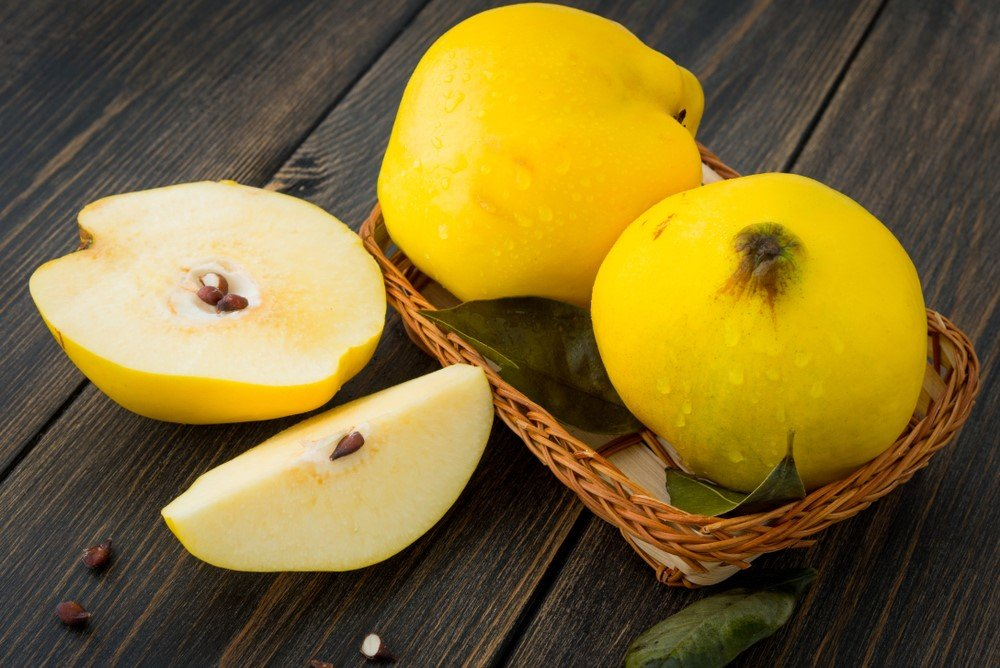Quince: (67, 132, 376, 441)
